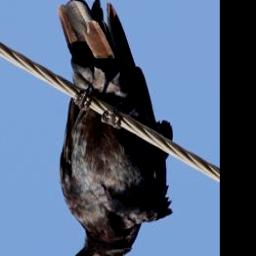Crow: (56, 0, 174, 256)
